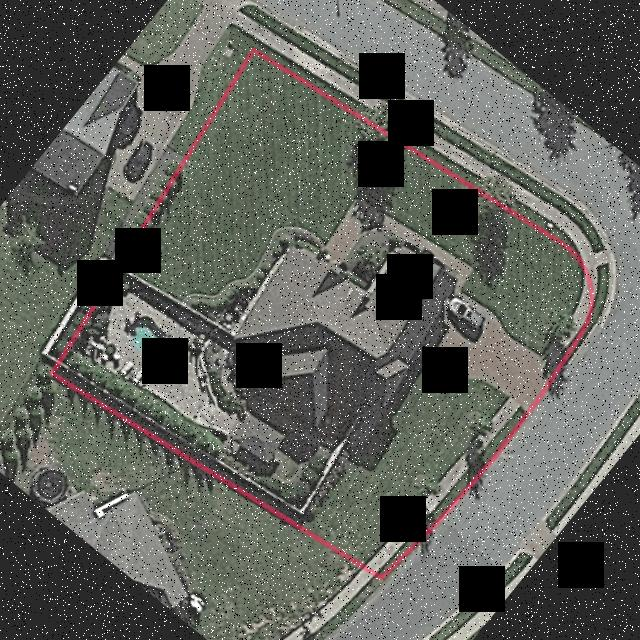Driveway: (324, 197, 554, 409)
House: (230, 246, 455, 465)
Other: (87, 293, 236, 434)
